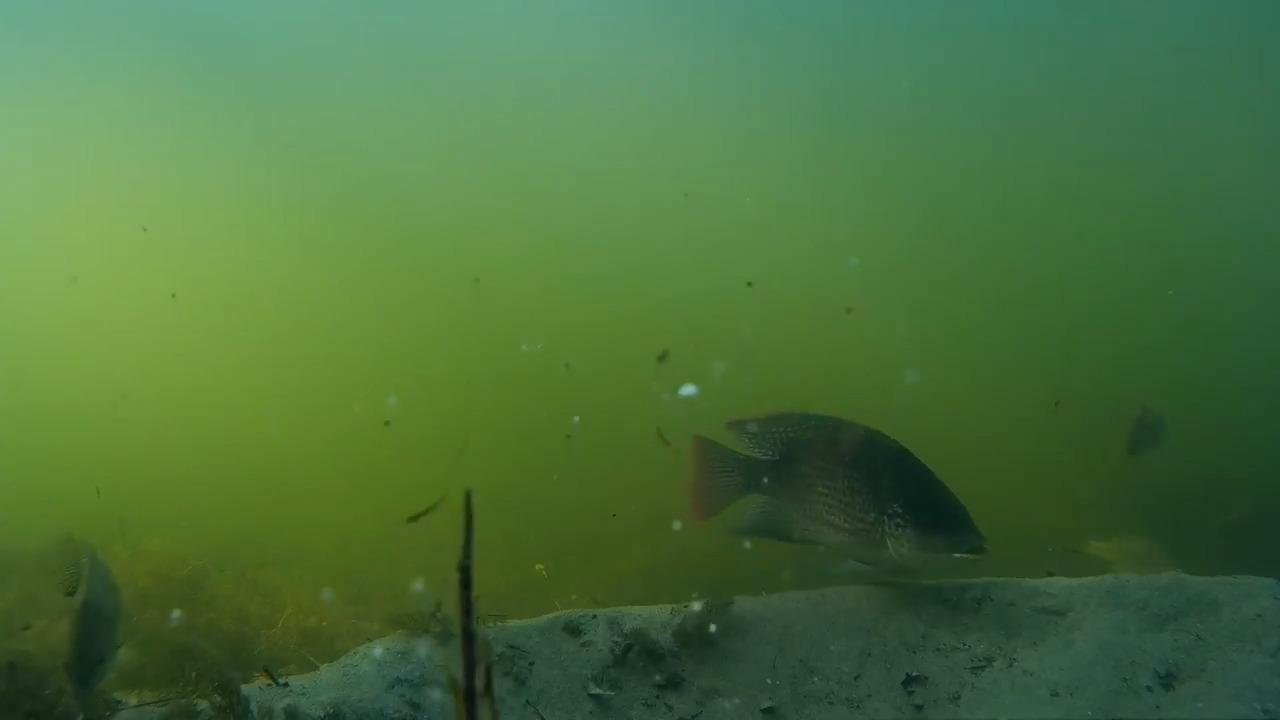Tilapia: (686, 412, 995, 594), (1076, 514, 1195, 608)
